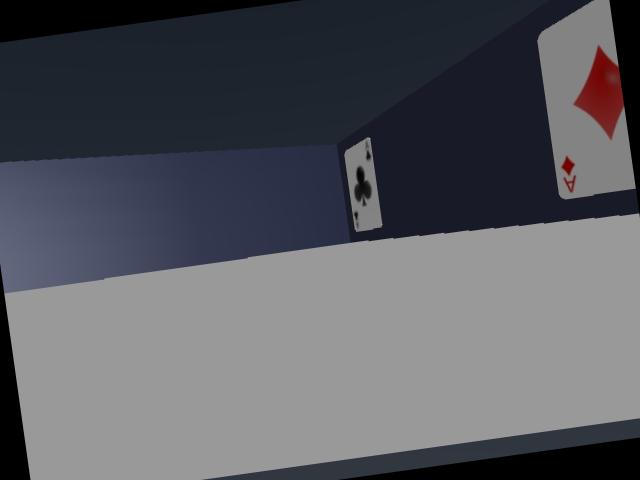club: (344, 138, 381, 231)
diamond: (538, 0, 635, 198)
